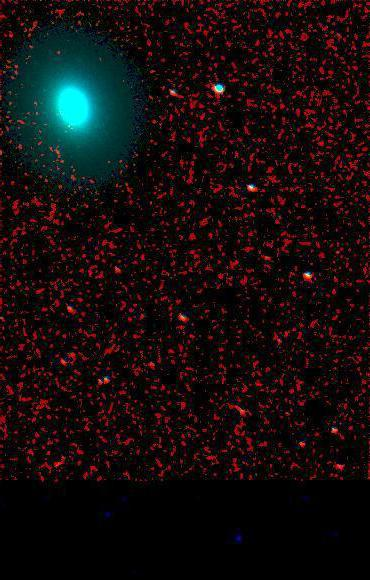star: (324, 236, 354, 266)
